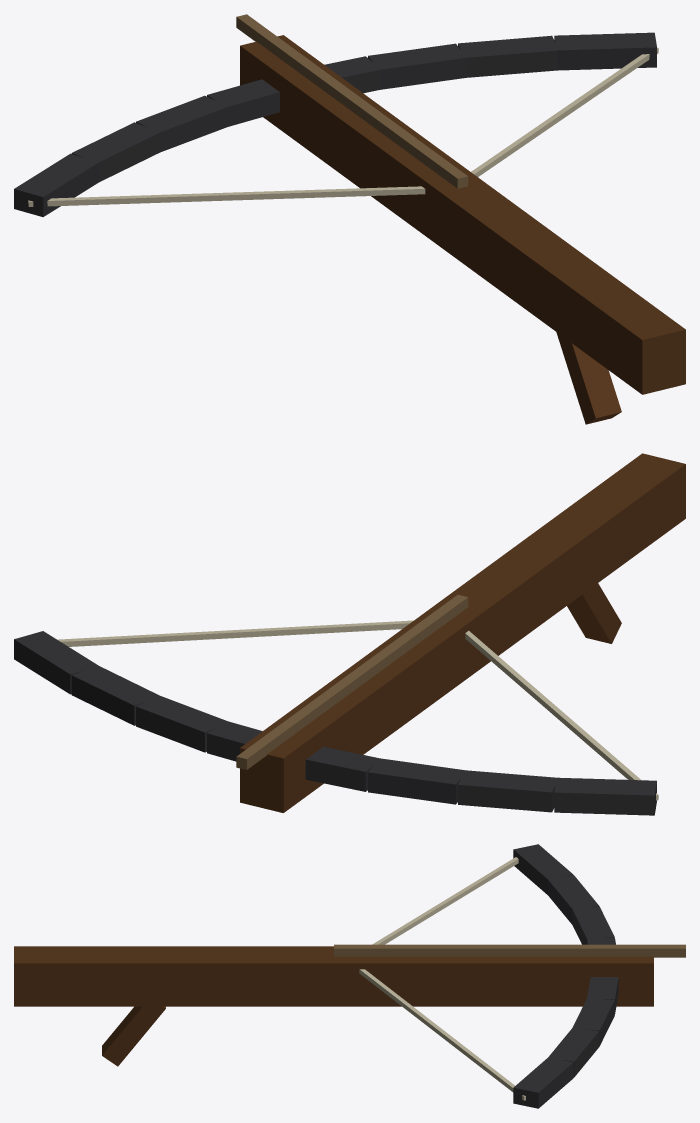
File: crossbow.obj
3 renders of one model, top to bottom at view 1: azimuth 30°, elevation 25°; view 2: azimuth 150°, elevation 25°; view 3: azimuth 270°, elevation 25°, orthographic. The views are drawn at different scales.
Bounding box in the file's own units: 0.7354 × 0.1585 × 0.84.
